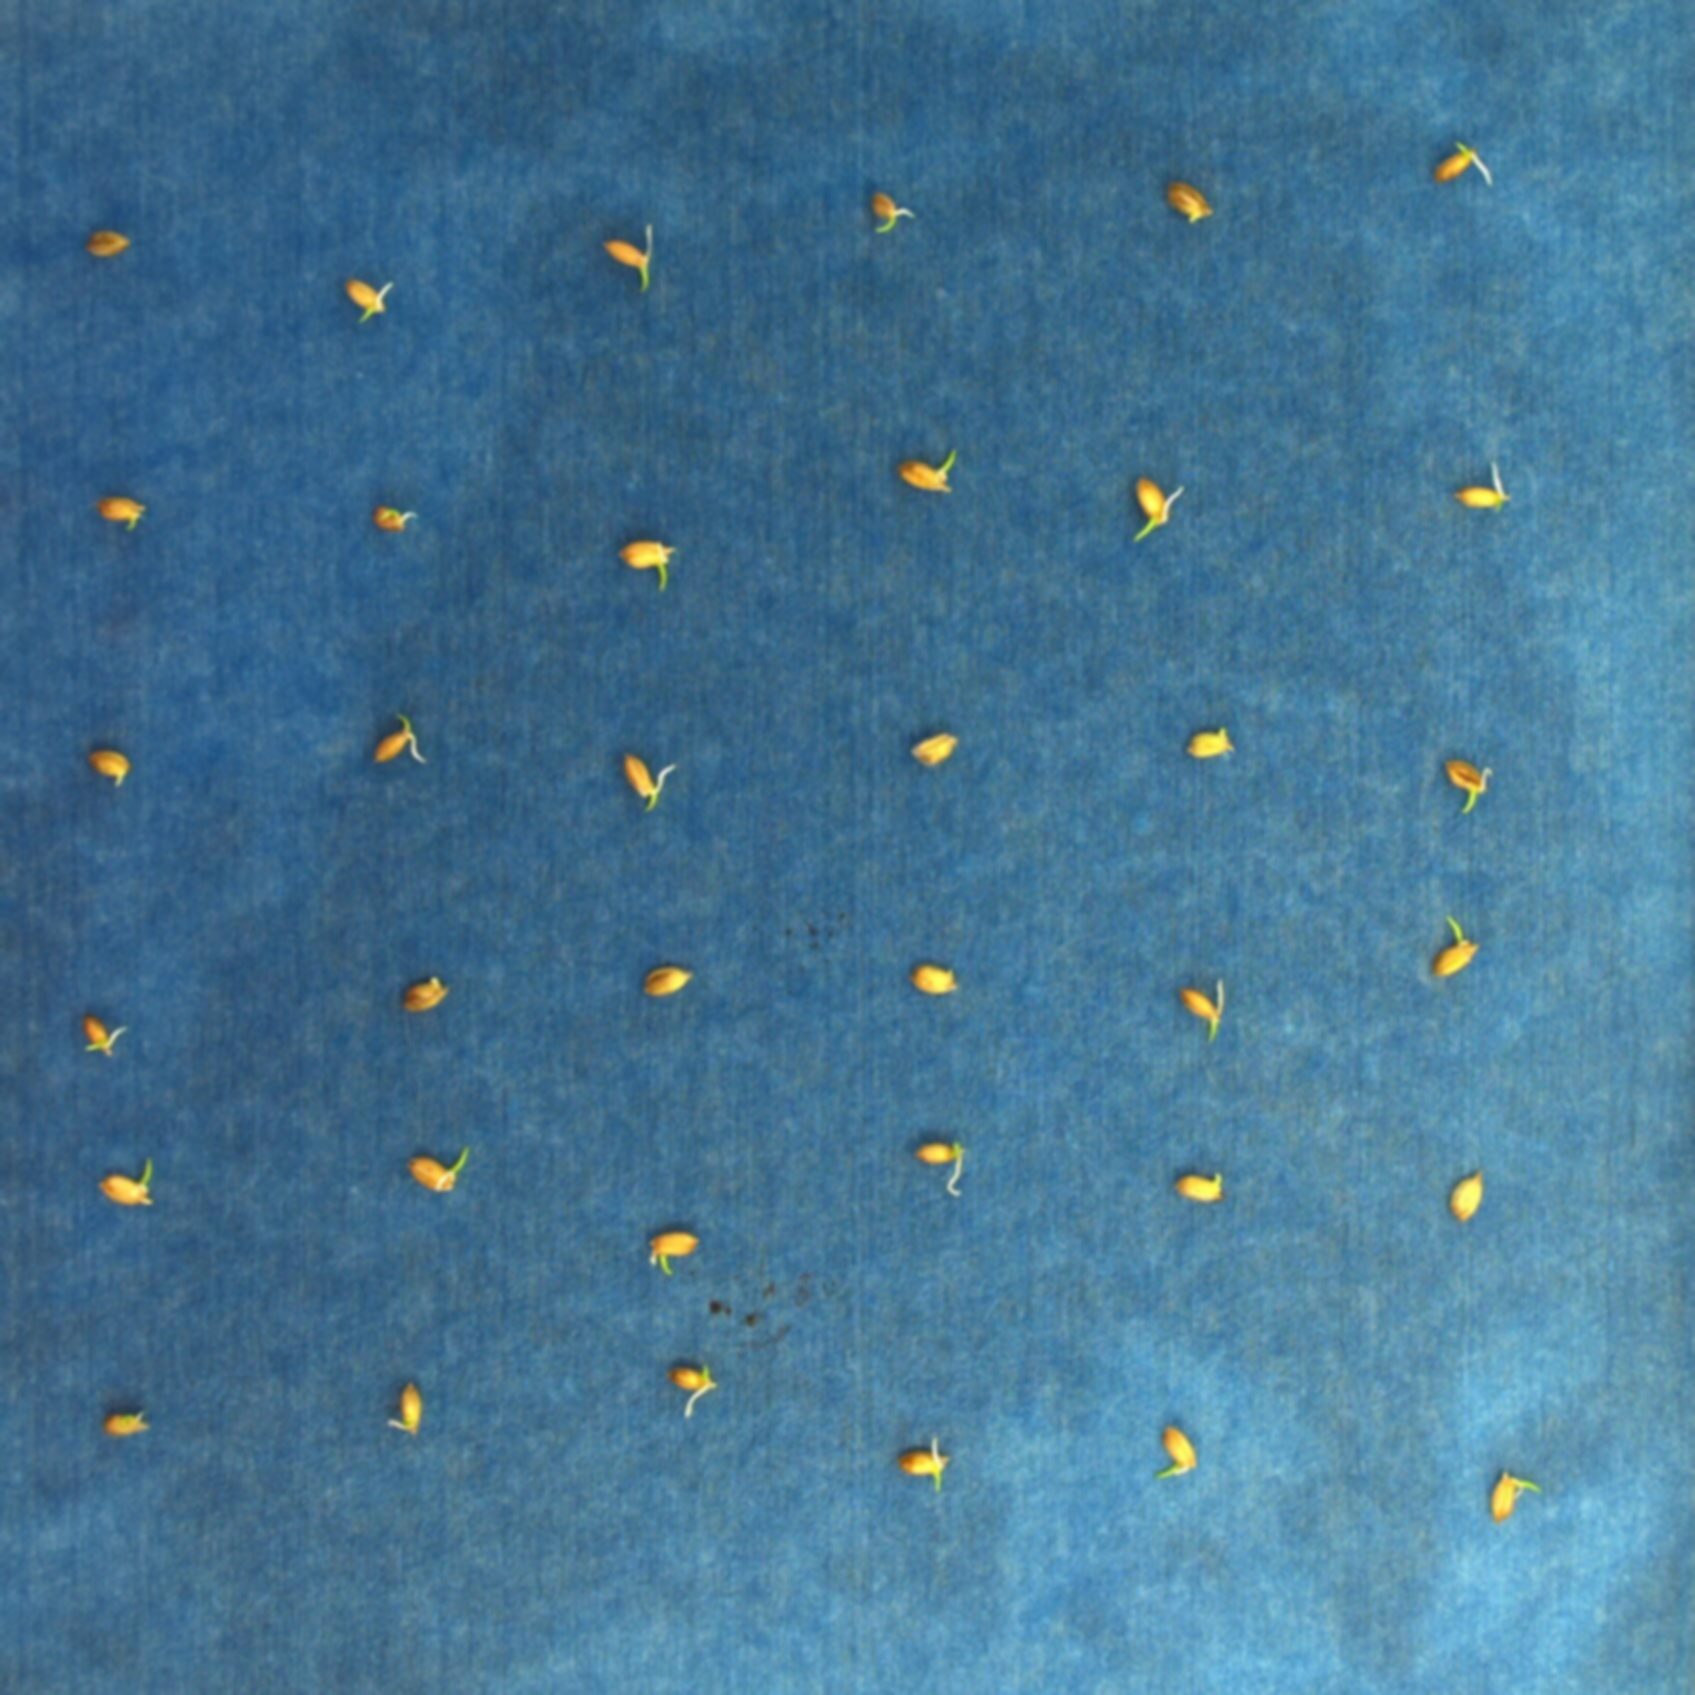not sprout: (1128, 475, 1189, 545), (913, 1133, 967, 1208), (99, 1155, 168, 1208), (1458, 456, 1515, 517), (1431, 137, 1499, 186), (622, 751, 675, 815), (365, 712, 427, 765), (643, 1228, 705, 1276), (667, 1357, 716, 1416), (900, 1440, 948, 1498), (343, 273, 394, 324), (1164, 171, 1215, 220), (383, 1383, 428, 1437), (905, 961, 967, 995), (78, 1014, 126, 1057), (1177, 1167, 1228, 1208), (1183, 722, 1236, 761), (92, 497, 144, 531), (910, 733, 959, 768), (85, 748, 129, 789), (404, 973, 449, 1012), (1450, 1173, 1487, 1218), (636, 967, 692, 997), (373, 501, 418, 536), (84, 231, 133, 261), (104, 1409, 147, 1439)
sprout: (405, 1139, 470, 1194), (1430, 913, 1479, 983), (1184, 972, 1229, 1048), (607, 225, 657, 292), (1445, 751, 1495, 816), (619, 540, 677, 593), (1485, 1468, 1544, 1520), (896, 453, 956, 497), (1152, 1423, 1197, 1479), (872, 196, 917, 239)
